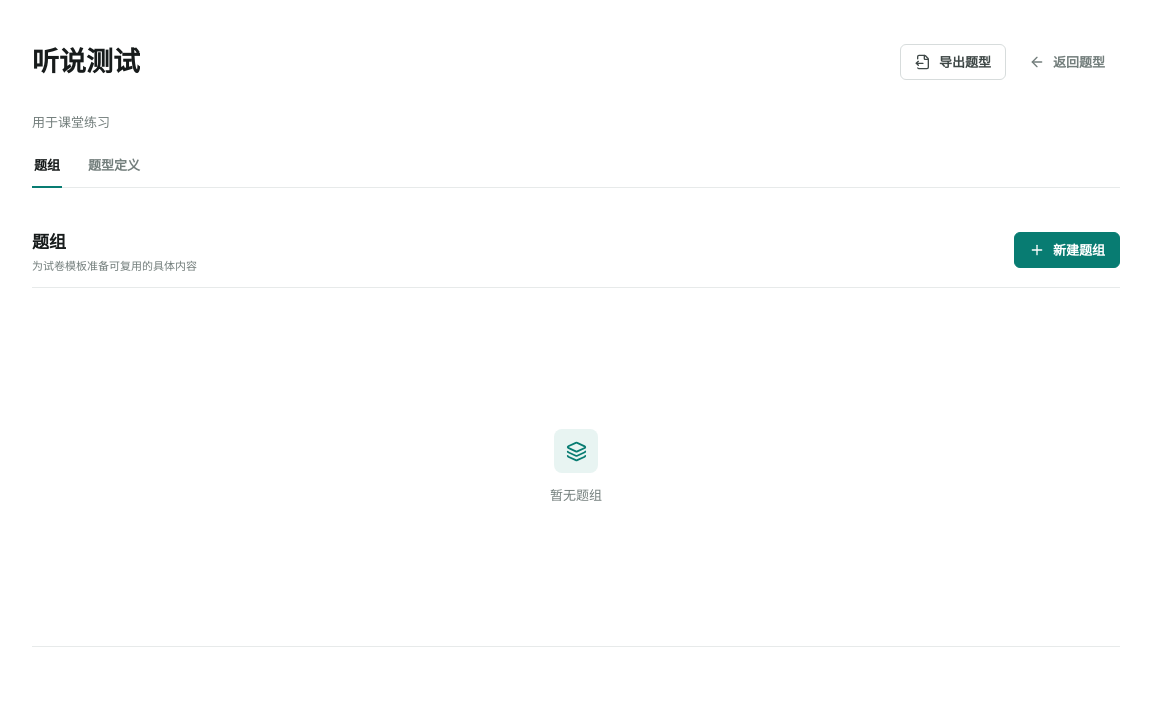
it: Interface pages › copies each prompt artifact from interface details
Click the tab "题型定义".
click(114, 166)  # box [86,145,142,187]
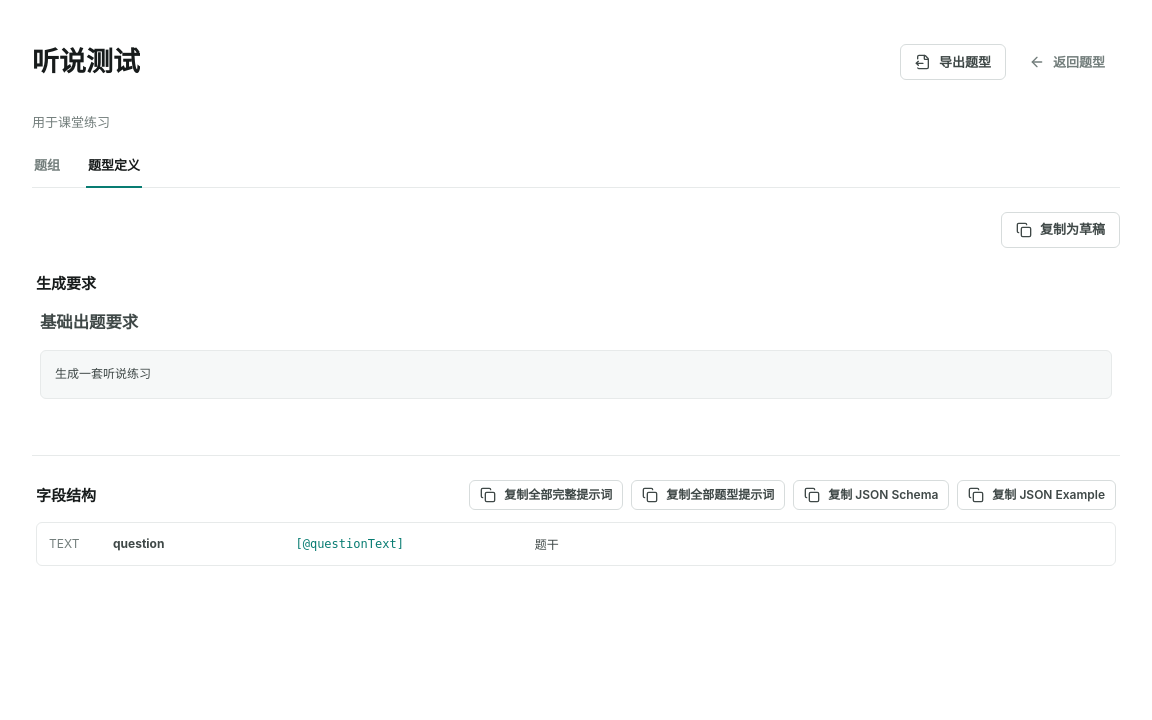
Result: the button "复制全部完整提示词" is shown at [469,480,623,510]
Result: the button "复制全部题型提示词" is shown at [631,480,785,510]
Result: the button "复制 JSON Schema" is shown
Click the button "复制 JSON Schema".
click(871, 495)  # box [793,480,949,510]
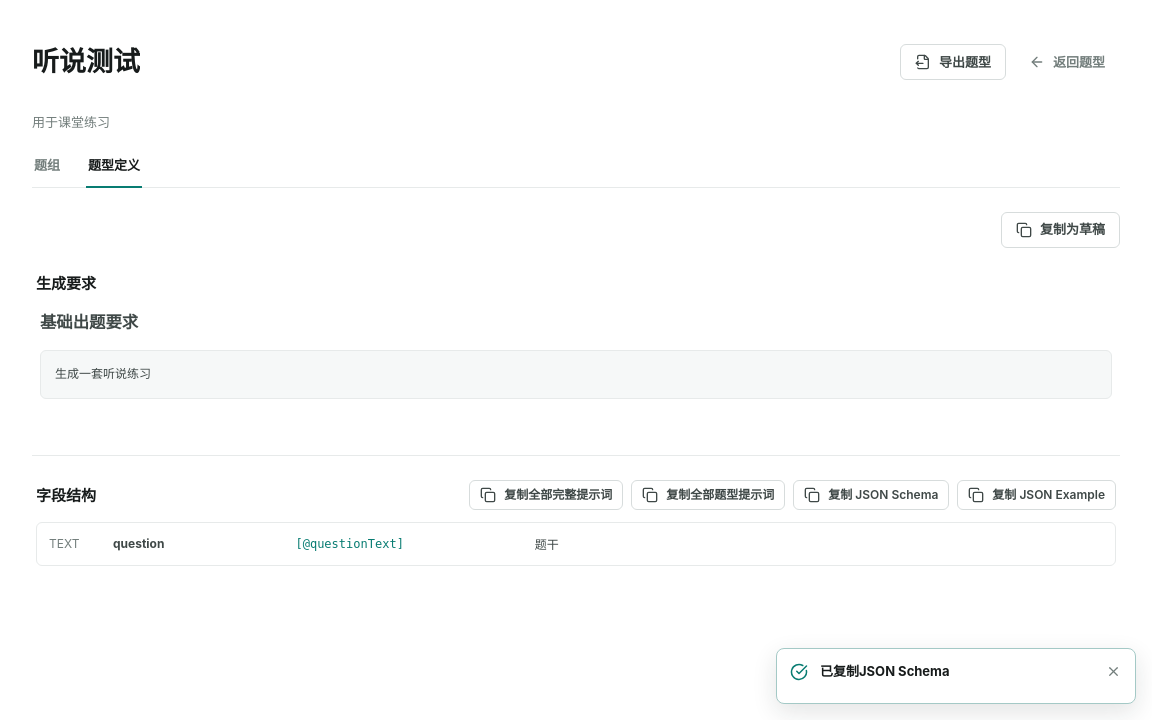
Result: the text "已复制JSON Schema" is shown at [820,663,950,679]
